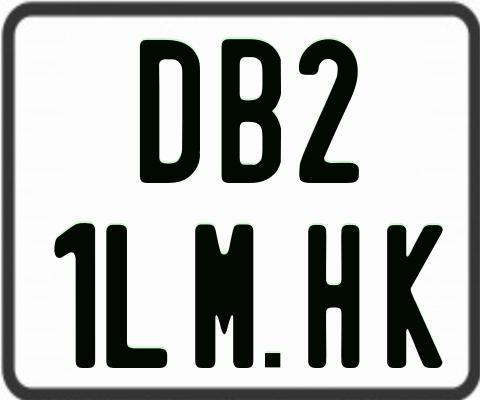1: (53, 221, 98, 371)
2: (297, 38, 360, 182)
B: (222, 36, 287, 185)
D: (138, 40, 202, 189)
H: (307, 225, 363, 368)
K: (384, 225, 446, 372)
L: (106, 222, 172, 365)
M: (193, 224, 253, 368)
